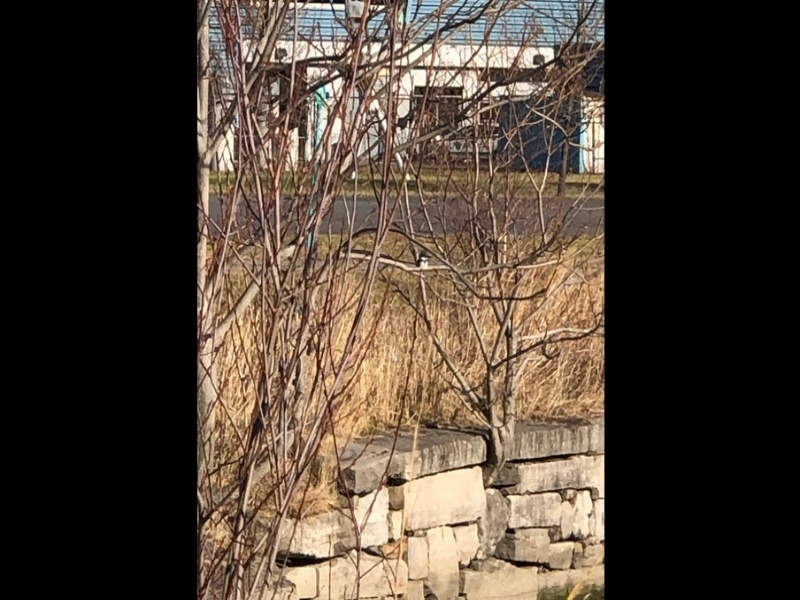kingfisher: (418, 249, 431, 271)
